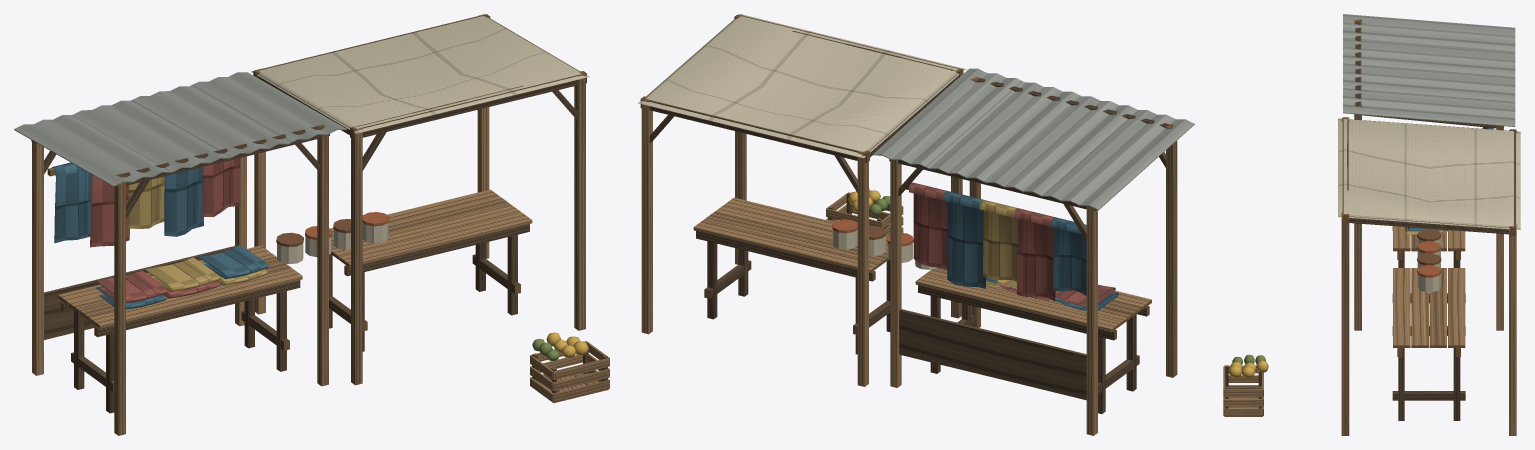
3 renders of one model, left to right at view 1: azimuth 30°, elevation 25°; view 2: azimuth 150°, elevation 25°; view 3: azimuth 270°, elevation 25°, orthographic. The views are drawn at different scales.
Visible parts, largest first — view 1: accra; view 2: accra; view 3: accra.
Part boxes in pixels (x1=…): accra: x1=14, y1=14, x2=609, y2=435; accra: x1=638, y1=14, x2=1194, y2=435; accra: x1=1223, y1=14, x2=1520, y2=435.
Size of the model in its own units: 4.66 by 2.45 by 2.93.
1 material, 1 textured.
